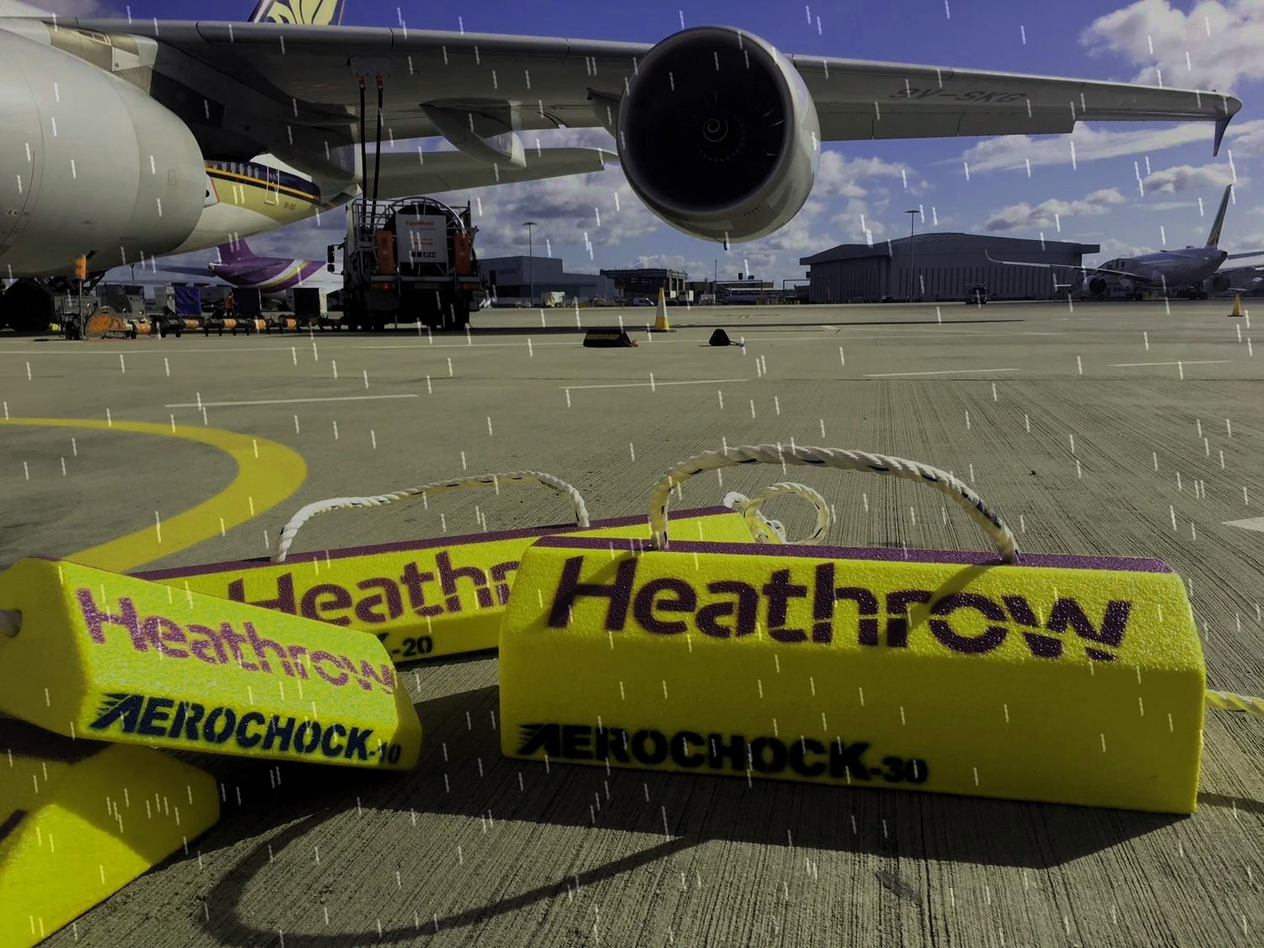chock: (495, 528, 1207, 820), (112, 504, 757, 671), (4, 554, 425, 773), (0, 722, 222, 947)
